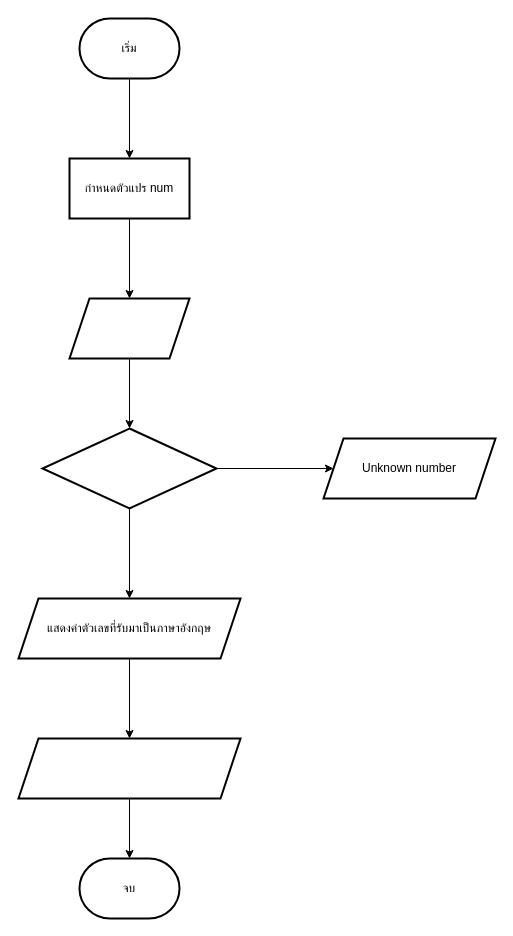
Some shapes in this 513 by 936 pixel diagram are drawn without their labels. Here are the shapes that lost their labels. From the top down, the box of each, then its label:
(68, 297, 190, 359): รับค่าจากผู้ใช้
(41, 427, 217, 509): ค่าที่รับมาอยู่ระหว่าง 1- 30
(17, 737, 241, 799): ONE
